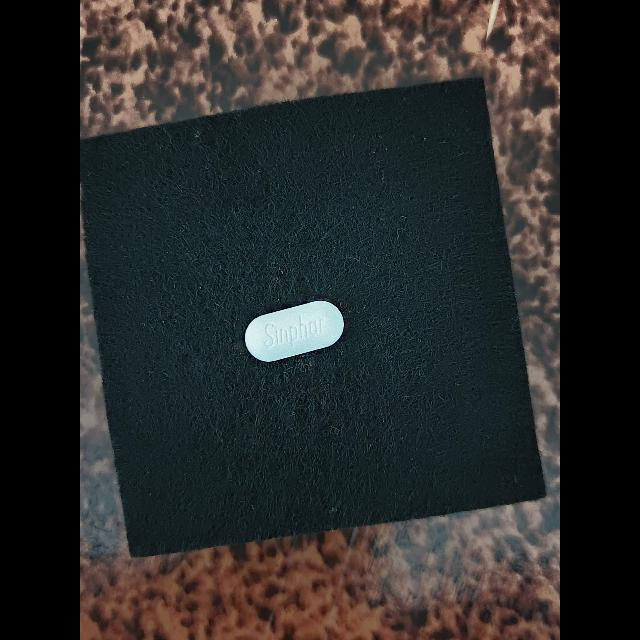Intact Pill: (245, 300, 344, 362)
